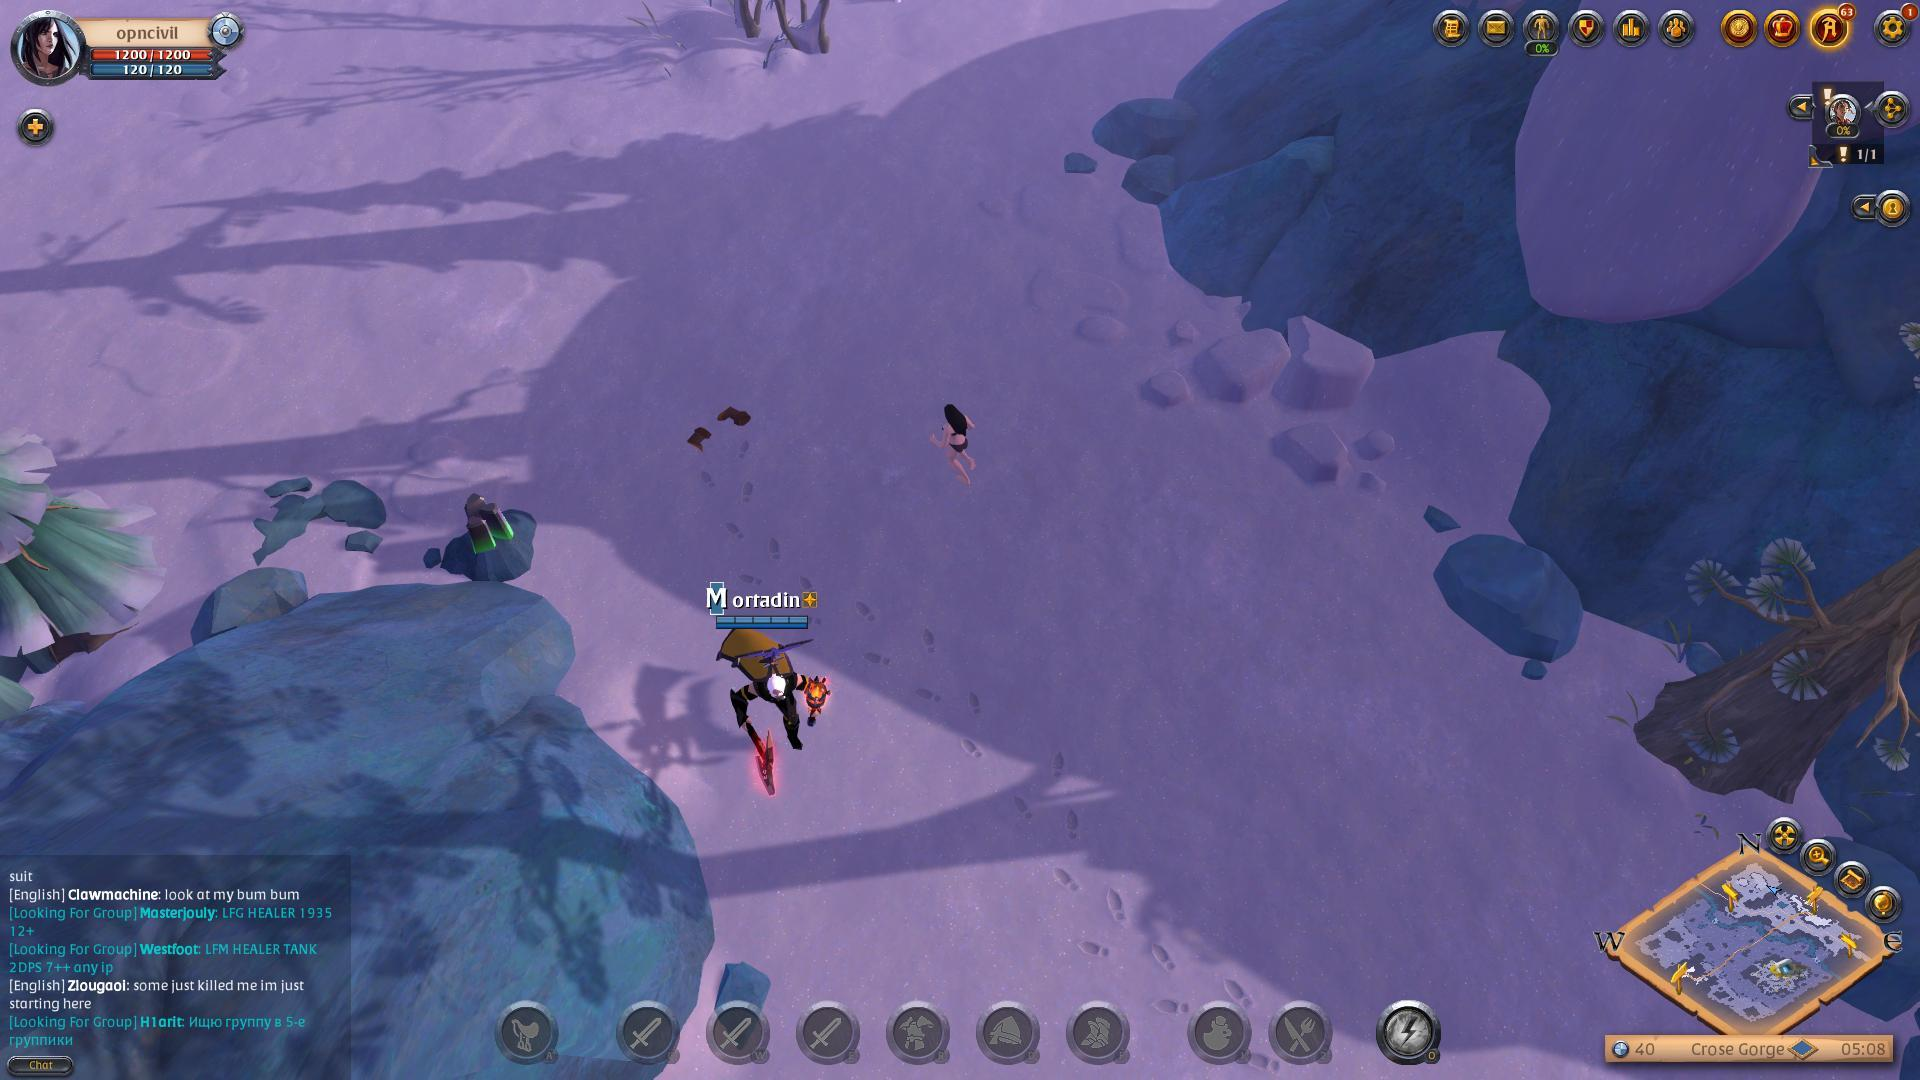tin_ore: (433, 481, 551, 592)
